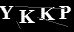K: (17, 9, 35, 24), (39, 6, 56, 21)
P: (58, 5, 71, 20)
Y: (1, 5, 13, 19)
